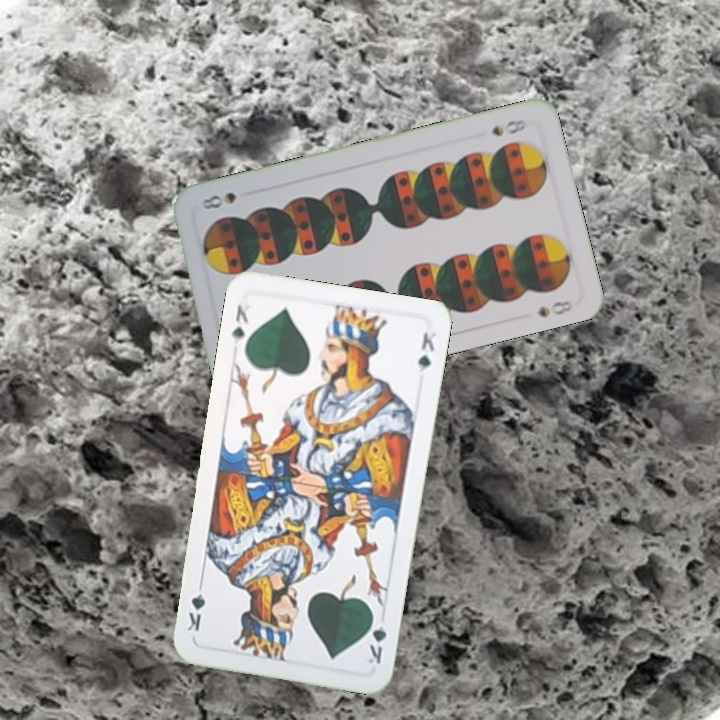GK: (364, 609, 389, 669), (227, 300, 251, 347)
S8: (487, 115, 528, 139)
